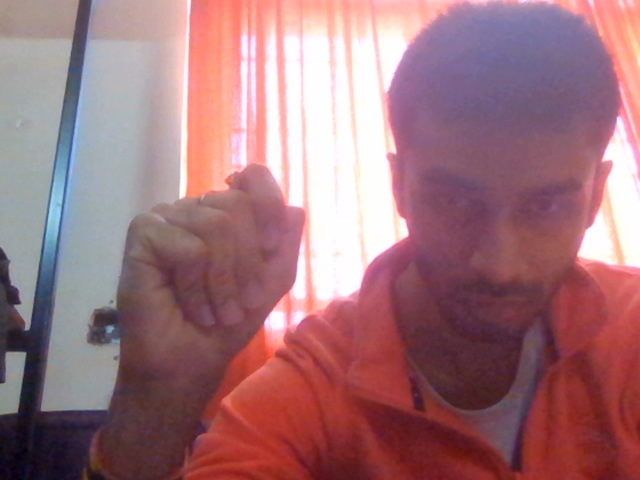T: (107, 163, 357, 443)
